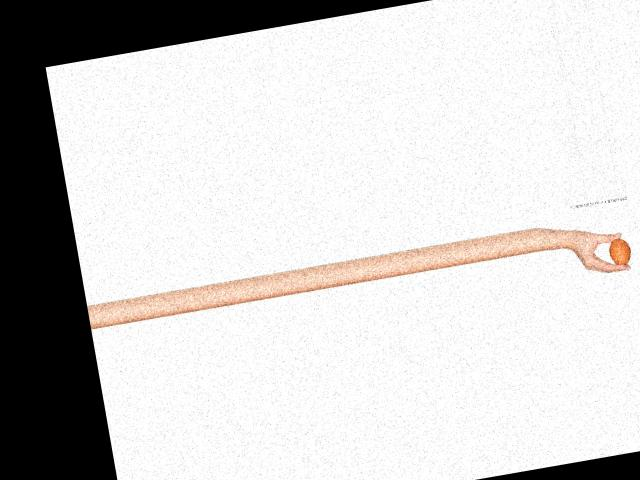egg: (608, 236, 633, 267)
